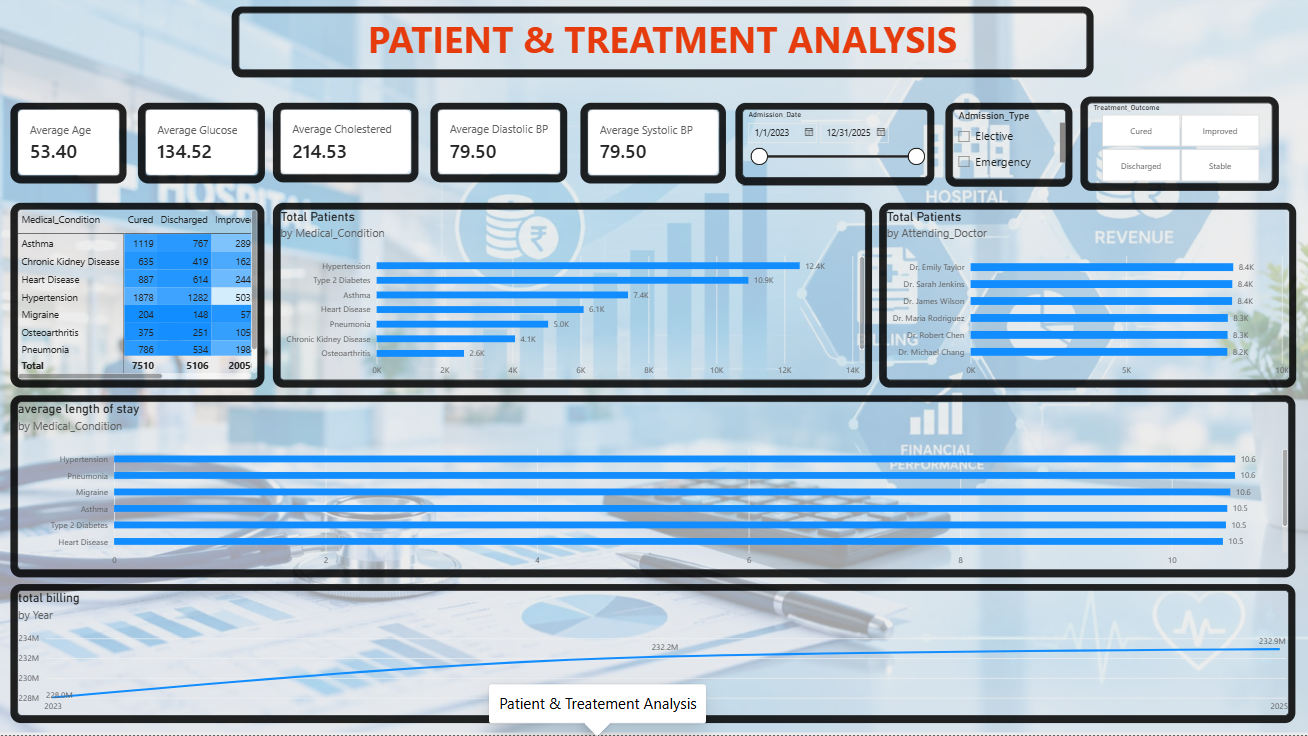

What the dashboard file says about the page in this screenshot:
{"tool":"powerbi","page":{"name":"Patient & Treatement Analysis","canvas":[1920,1080],"ordinal":2},"visuals":[{"type":"clusteredBarChart","fields":{"Category":["healthcare.Medical_Condition"],"Y":["healthcare.average length of stay"]},"box":[26.5,589.8,1865.3,246.9],"z":0},{"type":"clusteredBarChart","fields":{"Category":["healthcare.Medical_Condition"],"Y":["healthcare.Total Patients"]},"box":[410.2,308.2,859.2,251],"z":1000},{"type":"cardVisual","fields":{"Data":["healthcare.Average Glucose"]},"box":[212.2,161.2,166.7,98.8],"z":2000},{"type":"cardVisual","fields":{"Data":["healthcare.Average Cholestered"]},"box":[410.2,161.2,193.5,96.7],"z":3000},{"type":"cardVisual","fields":{"Data":["healthcare.Average Systolic BP"]},"box":[861.2,161.2,193.5,98.8],"z":4000},{"type":"cardVisual","fields":{"Data":["healthcare.Average Diastolic BP"]},"box":[642.9,161.2,181.1,96.7],"z":5000},{"type":"pivotTable","fields":{"Columns":["healthcare.Treatment_Outcome"],"Rows":["healthcare.Medical_Condition"],"Values":["healthcare.Total Patients"]},"box":[26.5,308.2,353.1,251],"z":6000},{"type":"lineChart","fields":{"Category":["healthcare.Admission_Date.Variation.Date Hierarchy.Year","healthcare.Admission_Date.Variation.Date Hierarchy.Quarter","healthcare.Admission_Date.Variation.Date Hierarchy.Month"],"Y":["healthcare.total billing"]},"box":[26.5,867.3,1865.3,183.7],"z":7000},{"type":"barChart","fields":{"Category":["healthcare.Attending_Doctor"],"Y":["healthcare.Total Patients"]},"box":[1300,308.2,591.8,251],"z":8000},{"type":"slicer","fields":{"Values":["healthcare.Admission_Type"]},"box":[1398,161.2,166.7,102.9],"z":10000},{"type":"slicer","fields":{"Values":["healthcare.Treatment_Outcome"]},"box":[1595.9,153.1,271.4,118.4],"z":13000},{"type":"slicer","fields":{"Values":["healthcare.Admission_Date"]},"box":[1089.8,161.2,271.7,100.9],"z":14000},{"type":"cardVisual","fields":{"Data":["healthcare.Average Age"]},"box":[26.5,161.2,150.3,98.8],"z":15000},{"type":"textbox","box":[351,20.4,1244.9,83.7],"z":15001}]}

Visuals, with their boxes in screenshot pixels (x1, y1, x2, y2), scaled from the page's 1920x1080 canvas onto the 1308x736 screenshot:
clusteredBarChart - healthcare.Medical_Condition x healthcare.average length of stay: bbox(18, 402, 1289, 570)
clusteredBarChart - healthcare.Medical_Condition x healthcare.Total Patients: bbox(279, 210, 865, 381)
cardVisual - healthcare.Average Glucose: bbox(145, 110, 258, 177)
cardVisual - healthcare.Average Cholestered: bbox(279, 110, 411, 176)
cardVisual - healthcare.Average Systolic BP: bbox(587, 110, 719, 177)
cardVisual - healthcare.Average Diastolic BP: bbox(438, 110, 561, 176)
pivotTable - healthcare.Treatment_Outcome x healthcare.Medical_Condition: bbox(18, 210, 259, 381)
lineChart - healthcare.Admission_Date.Variation.Date Hierarchy.Year x healthcare.Admission_Date.Variation.Date Hierarchy.Quarter: bbox(18, 591, 1289, 716)
barChart - healthcare.Attending_Doctor x healthcare.Total Patients: bbox(886, 210, 1289, 381)
slicer - healthcare.Admission_Type: bbox(952, 110, 1066, 180)
slicer - healthcare.Treatment_Outcome: bbox(1087, 104, 1272, 185)
slicer - healthcare.Admission_Date: bbox(742, 110, 928, 179)
cardVisual - healthcare.Average Age: bbox(18, 110, 120, 177)
textbox: bbox(239, 14, 1087, 71)
